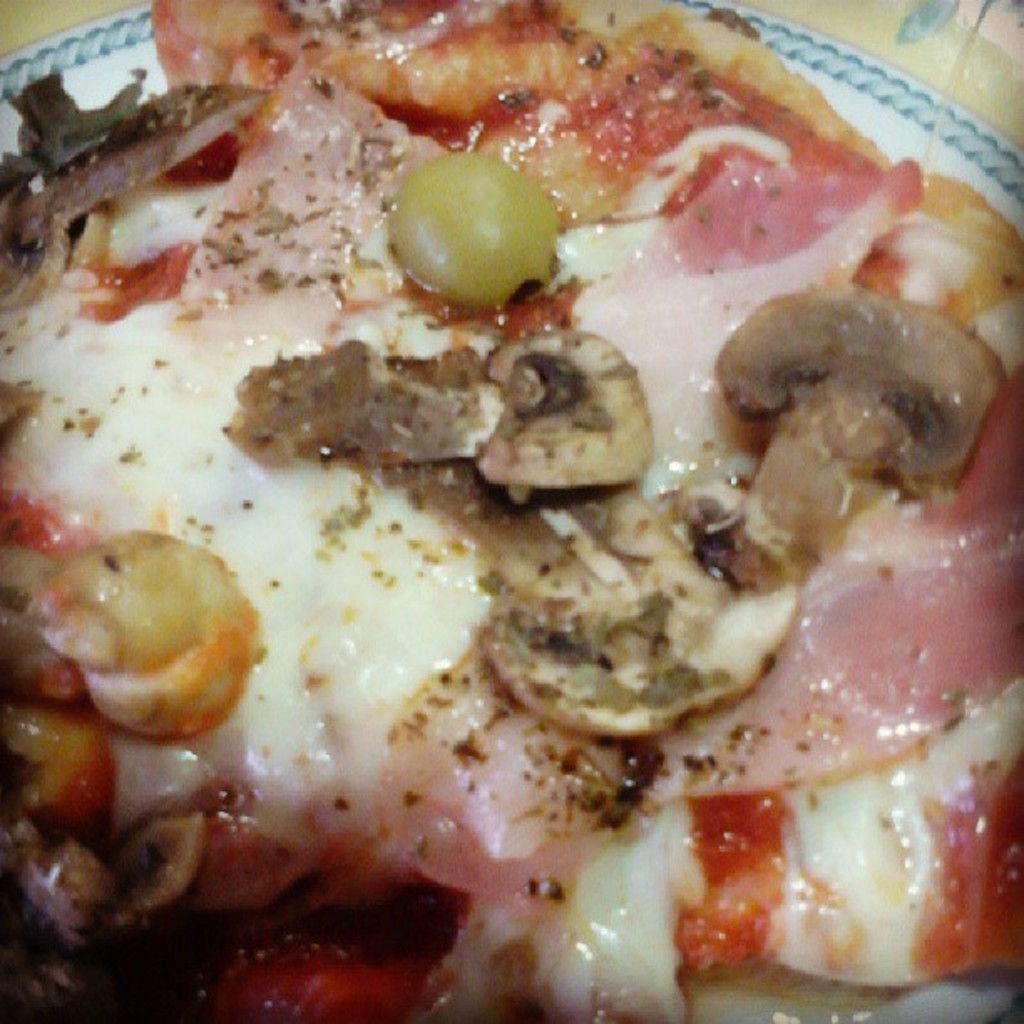Pizza: (0, 0, 1022, 1020)
